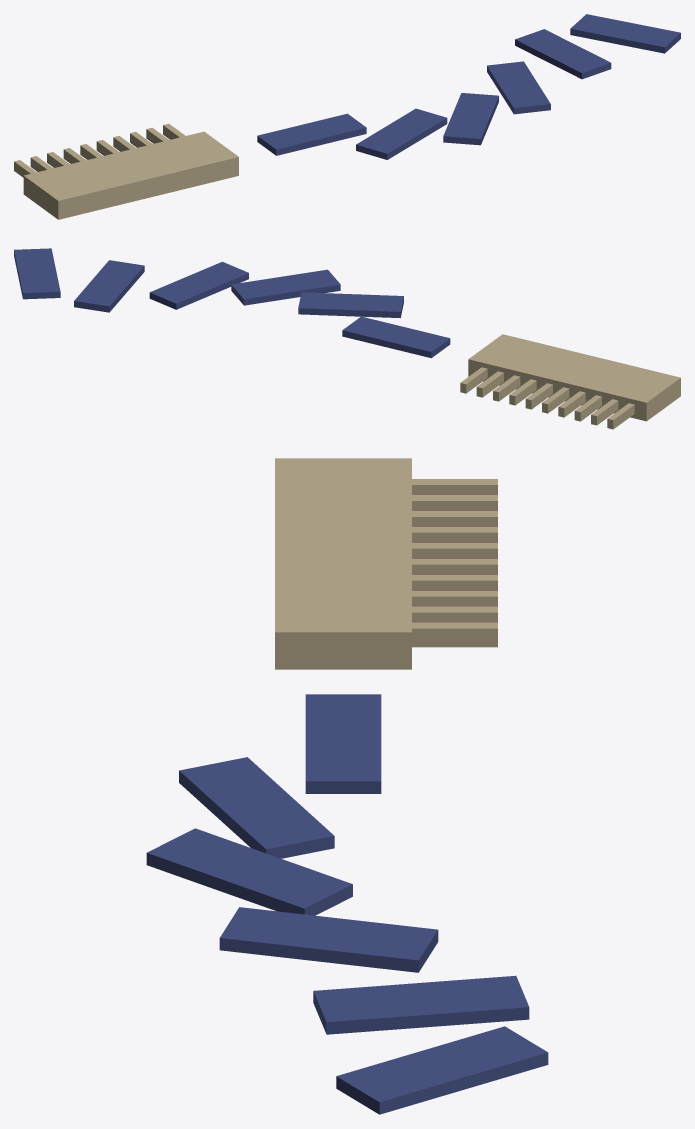
Rendered from nesta_ribbon_comb.glb.
The picture shows the model from 3 angles, top to bottom: view 1: azimuth 30°, elevation 25°; view 2: azimuth 150°, elevation 25°; view 3: azimuth 270°, elevation 25°; orthographic projection. The views are drawn at different scales.
Parts seen in each view (by area): view 1: nesta_ribbon_comb; view 2: nesta_ribbon_comb; view 3: nesta_ribbon_comb.
Boxes of the visible parts, x1,y1,x2,y2 form: nesta_ribbon_comb: (14, 14, 680, 219); nesta_ribbon_comb: (14, 248, 680, 429); nesta_ribbon_comb: (146, 458, 548, 1114).
Size of the model in its own units: 0.4312 by 0.012 by 0.117.
